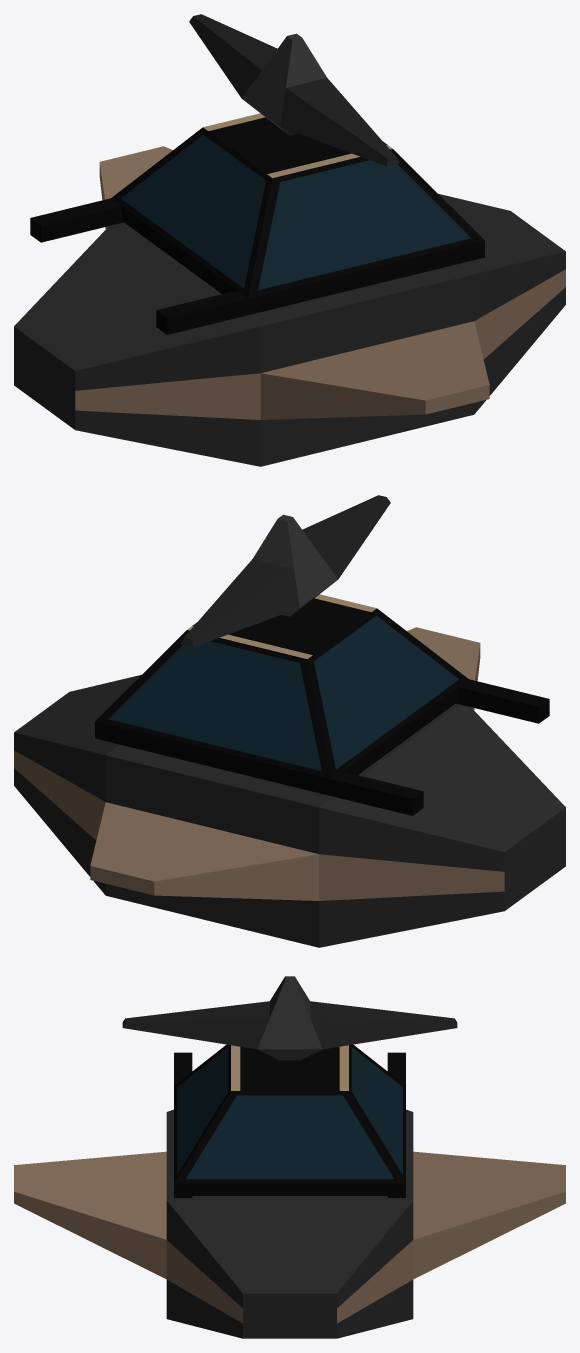
The model's file is TurretDrone.fbx.
3 views of the same model, one above another, from view 1: azimuth 30°, elevation 25°; view 2: azimuth 150°, elevation 25°; view 3: azimuth 270°, elevation 25° (orthographic). The views are drawn at different scales.
Visible parts, largest first — view 1: Cube.002, Cube.001, Cube; view 2: Cube.002, Cube.001, Cube; view 3: Cube.002, Cube.001, Cube.
Boxes of the visible parts, x1,y1,x2,y2 form: Cube.002: [14, 146, 565, 466]; Cube.001: [30, 113, 484, 334]; Cube: [189, 14, 399, 166]; Cube.002: [14, 627, 565, 947]; Cube.001: [95, 594, 549, 815]; Cube: [180, 495, 390, 647]; Cube.002: [14, 1109, 565, 1338]; Cube.001: [174, 1044, 405, 1197]; Cube: [122, 976, 457, 1060].
Size of the model in its own units: 316 by 214 by 362.
